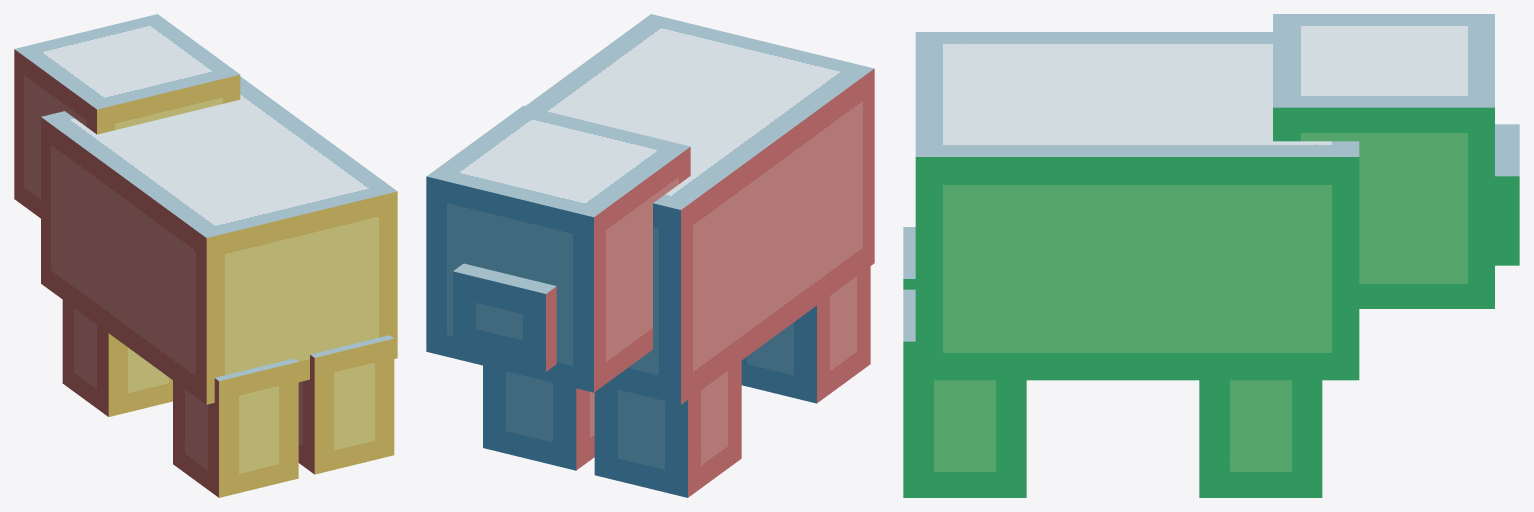
Rendered from cold_pig_baby_saddle.gltf.
The picture shows the model from 3 angles, left to right: view 1: azimuth 30°, elevation 25°; view 2: azimuth 150°, elevation 25°; view 3: azimuth 270°, elevation 25°; orthographic projection. The views are drawn at different scales.
Parts seen in each view (by area): view 1: body, head, leg2, leg1, leg4; view 2: body, head (×2), leg4, leg2, leg3; view 3: body, head (×2), leg1, leg3, leg2.
Part boxes in pixels (box(x1,y1,x2,y2)): body: box(41, 76, 397, 404); head: box(14, 14, 240, 218); leg2: box(173, 358, 298, 497); leg1: box(298, 335, 394, 474); leg4: box(62, 300, 172, 416); body: box(525, 14, 874, 404); head (×2): box(426, 105, 690, 392); leg4: box(594, 361, 741, 497); leg2: box(741, 266, 870, 403); leg3: box(483, 365, 594, 470); body: box(915, 32, 1359, 380); head (×2): box(1273, 14, 1519, 308); leg1: box(903, 289, 1026, 497); leg3: box(1199, 380, 1322, 497); leg2: box(903, 227, 915, 289).
Size of the model in its own units: 0.75 by 1.06 by 1.56.
Materials: 1 (1 with a texture image).
